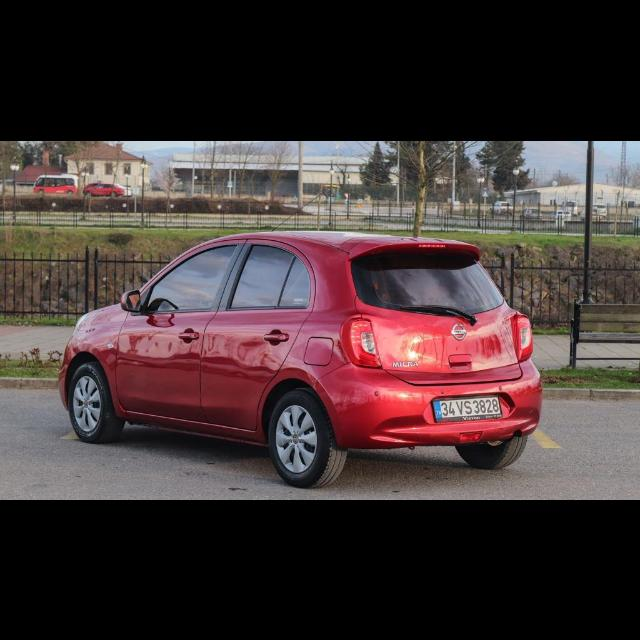Plaka: (436, 397, 502, 419)
